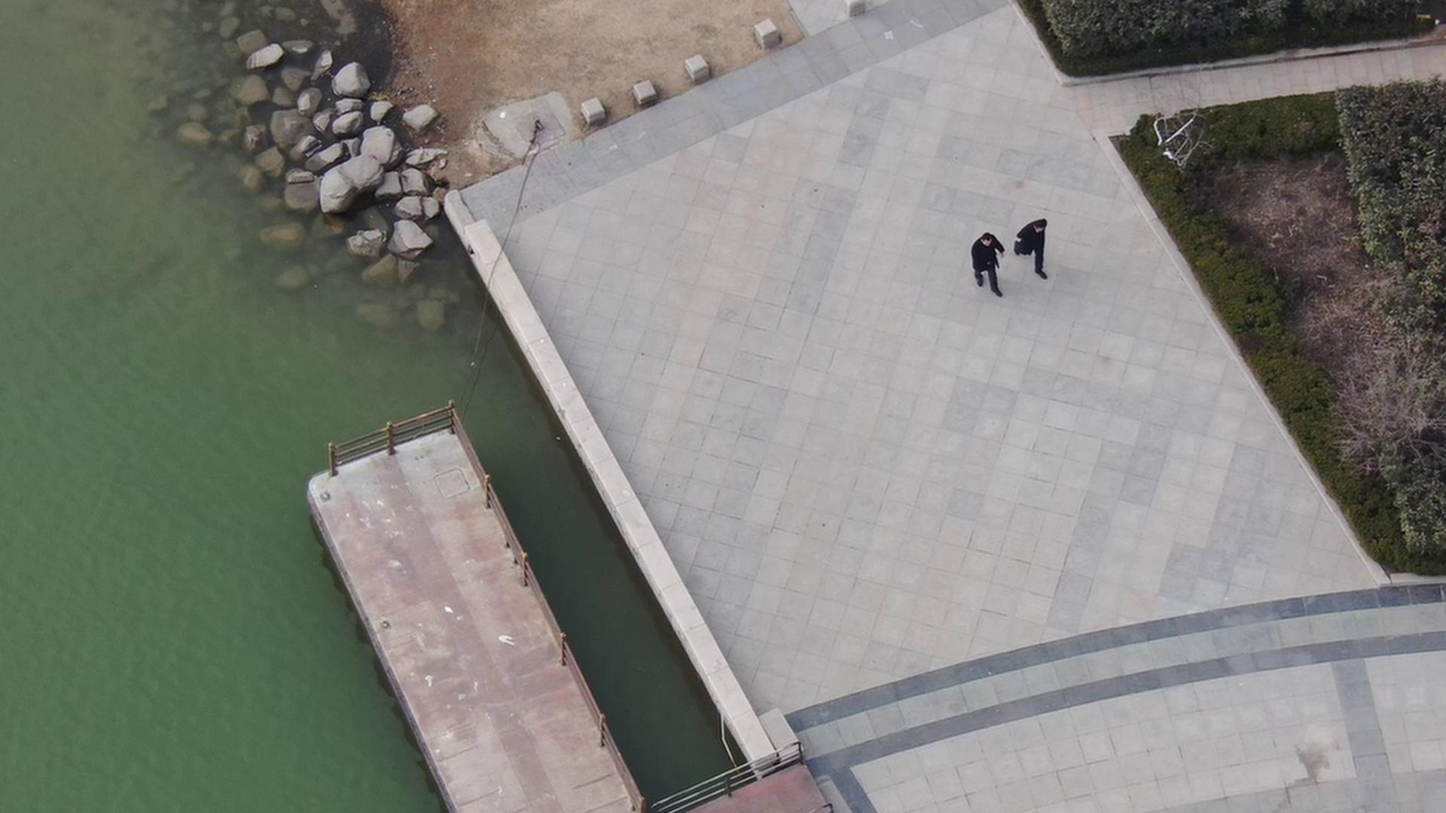human: (948, 218, 992, 294), (996, 204, 1030, 274)
